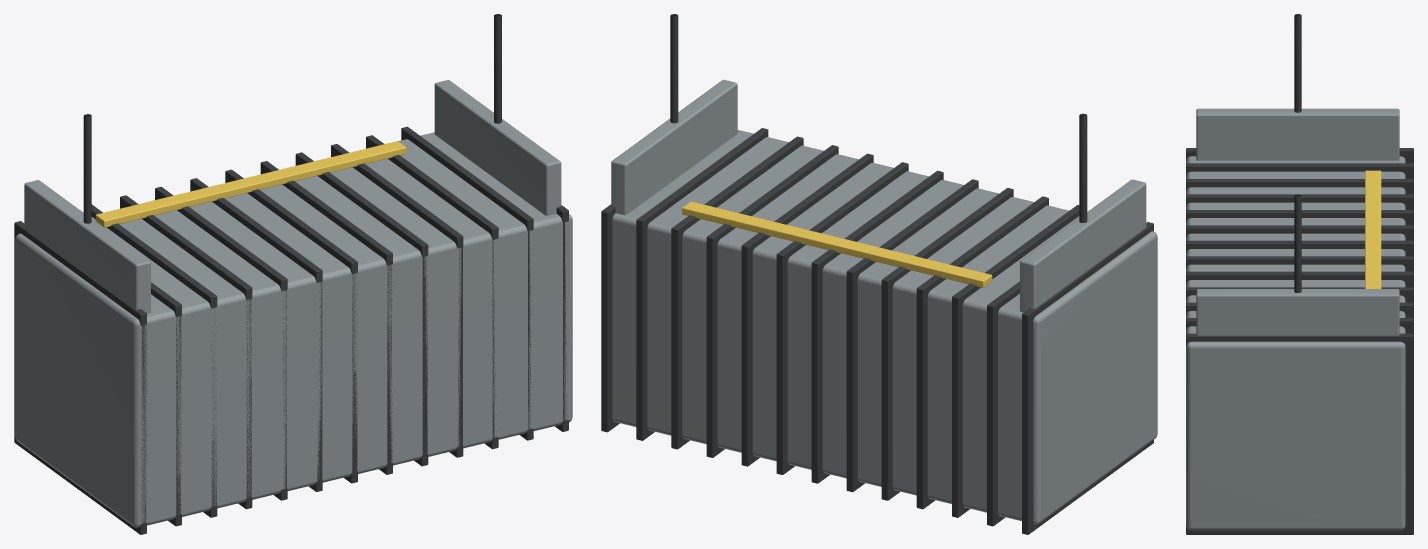
Rendered from prop_container_final.glb.
3 views of the same model, side by side, from view 1: azimuth 30°, elevation 25°; view 2: azimuth 150°, elevation 25°; view 3: azimuth 270°, elevation 25° (orthographic). The views are drawn at different scales.
Visible parts, largest first — view 1: corrugated_shipping_container_body, container_door_leaf_1.05, container_door_leaf_-1.05, container_faded_warning_stripe, container_corrugation_rib_-1.08, container_corrugation_rib_0.36, container_corrugation_rib_0.18, container_corrugation_rib_-0.54, container_corrugation_rib_0.0, container_corrugation_rib_0.54, container_corrugation_rib_-0.18, container_corrugation_rib_0.9 (+7 smaller); view 2: corrugated_shipping_container_body, container_door_leaf_1.05, container_door_leaf_-1.05, container_faded_warning_stripe, container_corrugation_rib_0.9, container_corrugation_rib_-0.18, container_corrugation_rib_-0.54, container_corrugation_rib_-0.36, container_corrugation_rib_0.36, container_corrugation_rib_0.72, container_corrugation_rib_0.0, container_corrugation_rib_0.18 (+7 smaller); view 3: corrugated_shipping_container_body, container_door_leaf_-1.05, container_door_leaf_1.05, container_corrugation_rib_1.08, container_corrugation_rib_-0.9, container_faded_warning_stripe, container_corrugation_rib_-0.72, container_corrugation_rib_0.0, container_corrugation_rib_0.36, container_corrugation_rib_-0.54, container_corrugation_rib_-0.18, container_corrugation_rib_0.18 (+7 smaller).
Boxes of the visible parts, bbox=[...] form: corrugated_shipping_container_body: bbox=[15, 132, 572, 527]; container_door_leaf_1.05: bbox=[434, 80, 561, 215]; container_door_leaf_-1.05: bbox=[24, 180, 150, 313]; container_faded_warning_stripe: bbox=[95, 141, 406, 227]; container_corrugation_rib_-1.08: bbox=[14, 221, 146, 534]; container_corrugation_rib_0.36: bbox=[295, 152, 428, 466]; container_corrugation_rib_0.18: bbox=[260, 161, 392, 474]; container_corrugation_rib_-0.54: bbox=[120, 195, 252, 509]; container_corrugation_rib_0.0: bbox=[225, 169, 357, 483]; container_corrugation_rib_0.54: bbox=[331, 144, 463, 457]; container_corrugation_rib_-0.18: bbox=[190, 178, 322, 491]; container_corrugation_rib_0.9: bbox=[401, 126, 533, 440]; corrugated_shipping_container_body: bbox=[612, 130, 1157, 524]; container_door_leaf_1.05: bbox=[611, 79, 737, 215]; container_door_leaf_-1.05: bbox=[1020, 179, 1146, 312]; container_faded_warning_stripe: bbox=[682, 201, 992, 287]; container_corrugation_rib_0.9: bbox=[636, 128, 768, 440]; container_corrugation_rib_-0.18: bbox=[846, 179, 978, 492]; container_corrugation_rib_-0.54: bbox=[916, 196, 1048, 509]; container_corrugation_rib_-0.36: bbox=[881, 188, 1013, 500]; container_corrugation_rib_0.36: bbox=[741, 153, 873, 466]; container_corrugation_rib_0.72: bbox=[671, 136, 803, 449]; container_corrugation_rib_0.0: bbox=[811, 170, 943, 483]; container_corrugation_rib_0.18: bbox=[776, 162, 908, 474]; corrugated_shipping_container_body: bbox=[1186, 156, 1405, 530]; container_door_leaf_-1.05: bbox=[1196, 108, 1399, 160]; container_door_leaf_1.05: bbox=[1196, 289, 1399, 335]; container_corrugation_rib_1.08: bbox=[1186, 333, 1413, 534]; container_corrugation_rib_-0.9: bbox=[1186, 163, 1413, 179]; container_faded_warning_stripe: bbox=[1365, 170, 1381, 288]; container_corrugation_rib_-0.72: bbox=[1186, 179, 1413, 194]; container_corrugation_rib_0.0: bbox=[1186, 240, 1413, 256]; container_corrugation_rib_0.36: bbox=[1186, 271, 1413, 287]; container_corrugation_rib_-0.54: bbox=[1186, 194, 1413, 210]; container_corrugation_rib_-0.18: bbox=[1186, 225, 1413, 241]; container_corrugation_rib_0.18: bbox=[1186, 256, 1413, 272].
Size of the model in its own units: 2.25 by 1.82 by 1.12.
